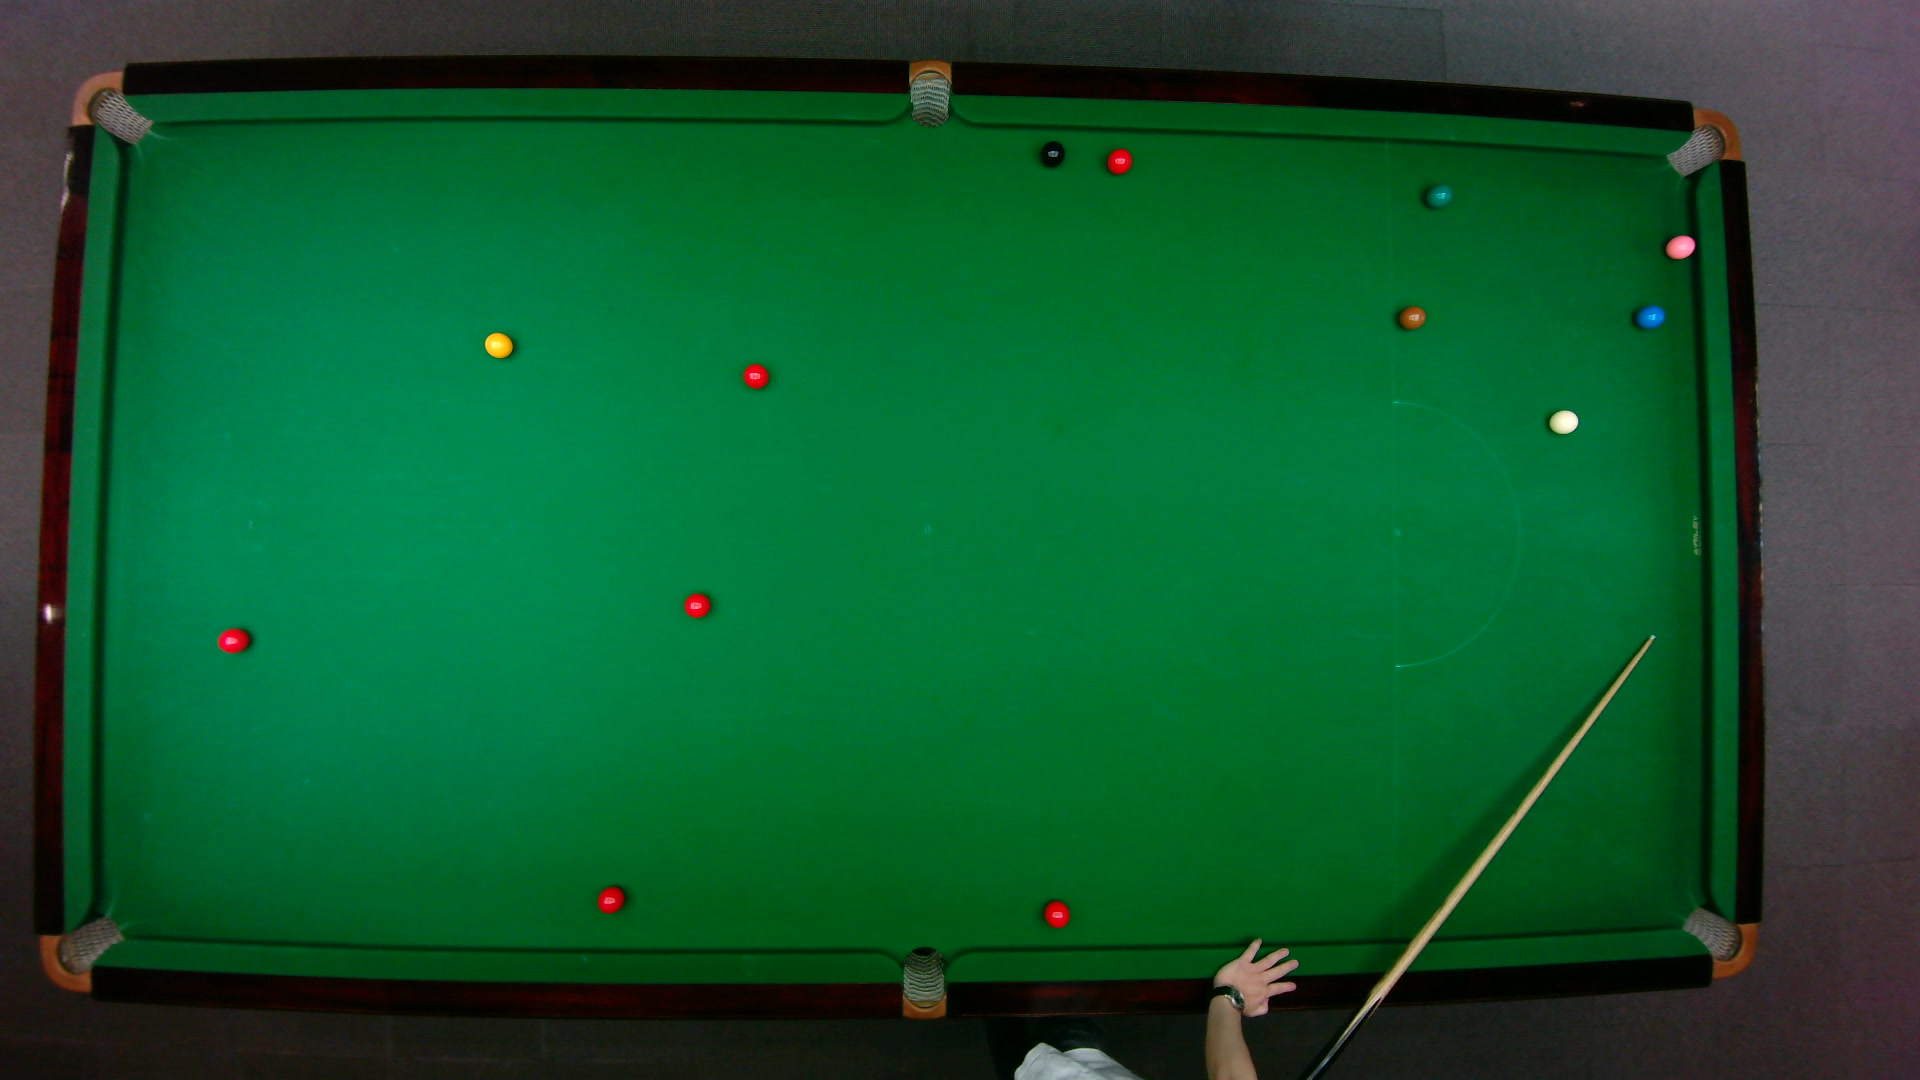bag: (37, 914, 125, 993), (69, 70, 152, 145), (1677, 905, 1756, 978), (1663, 107, 1741, 177), (901, 944, 944, 1021), (909, 57, 949, 128)
black: (1040, 140, 1063, 166)
blue: (1634, 303, 1665, 328)
brown: (1396, 305, 1427, 328)
cue: (1290, 629, 1673, 1080)
green: (1423, 182, 1453, 208)
pink: (1663, 232, 1697, 260)
red: (216, 625, 251, 653), (595, 884, 625, 913), (1104, 146, 1133, 175), (1042, 899, 1071, 928), (682, 591, 709, 618), (741, 361, 769, 389)
white: (1547, 407, 1578, 434)
yellow: (483, 328, 513, 359)
zone: (1390, 400, 1520, 669)
